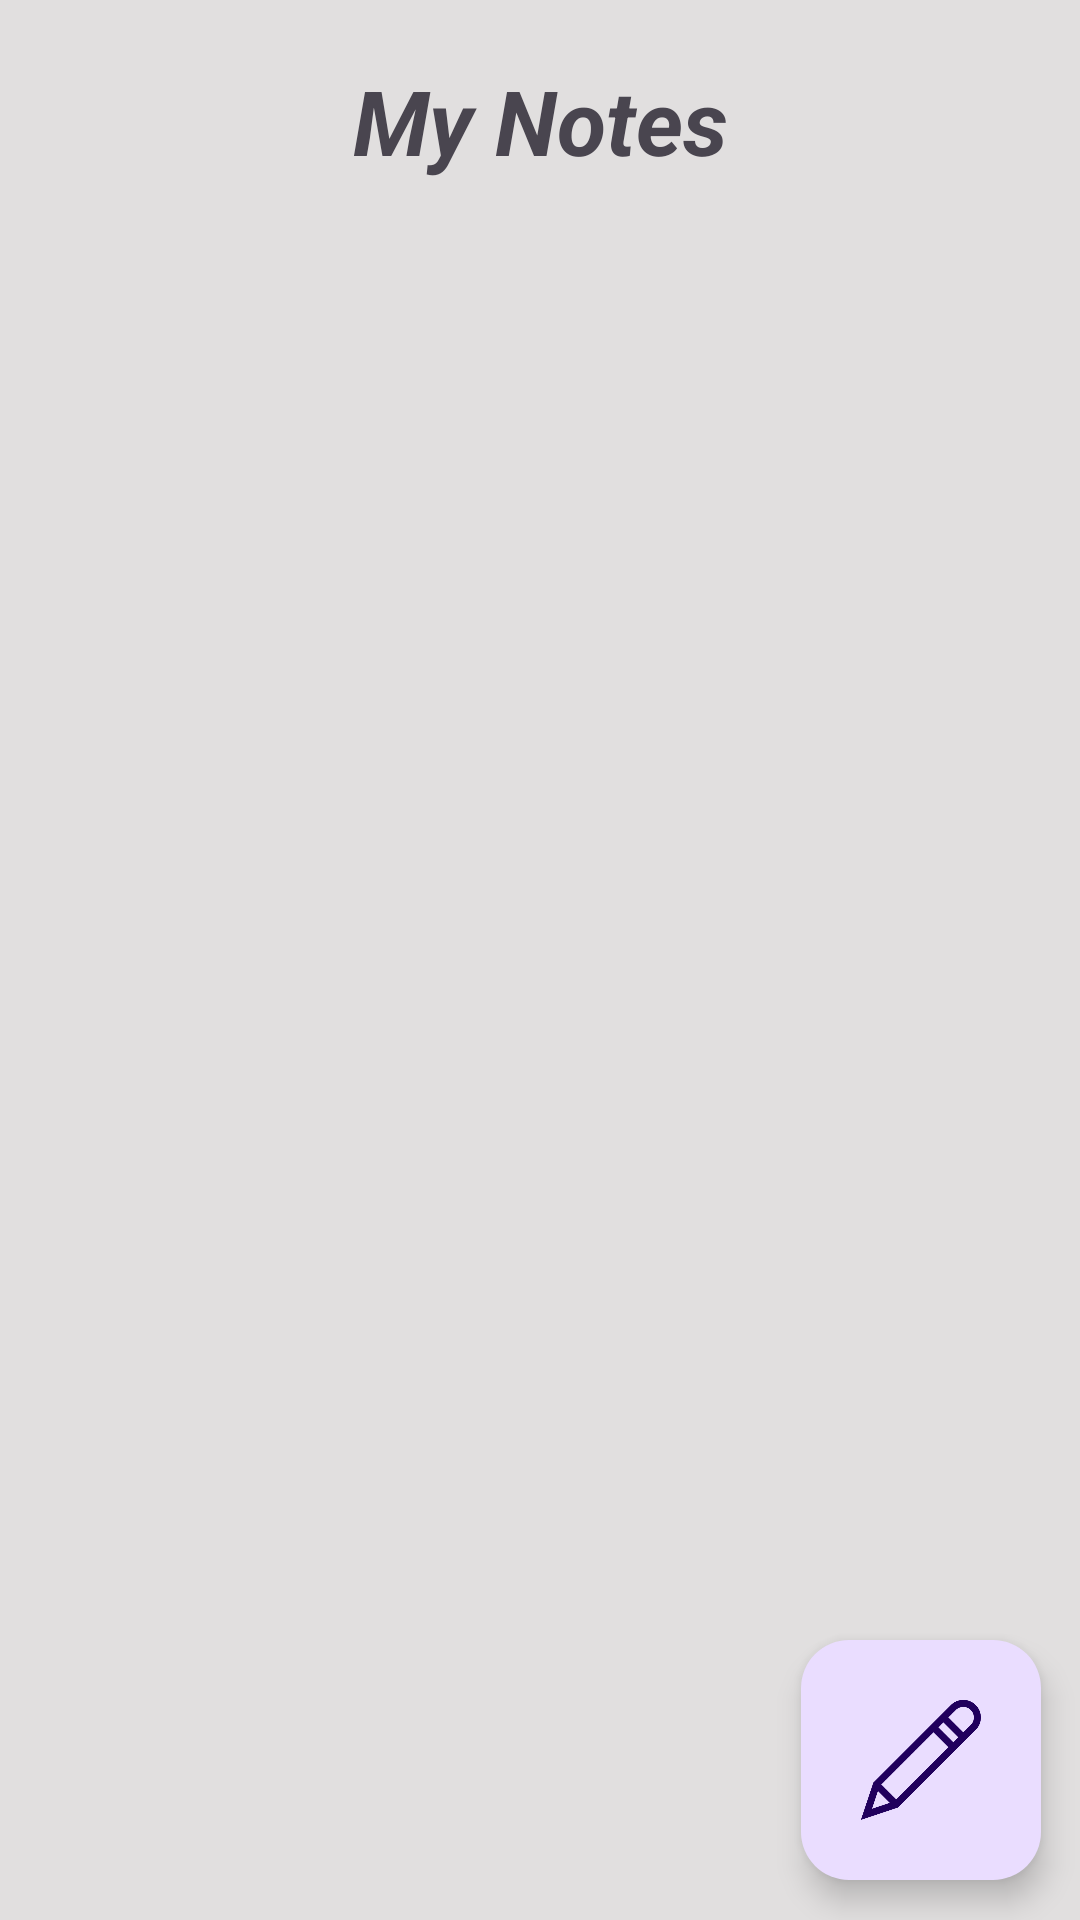

Where icons sit on this 1080px x 1920px app screen, as region(x1, y1, x2, y2):
add note: region(801, 1640, 1041, 1880)
